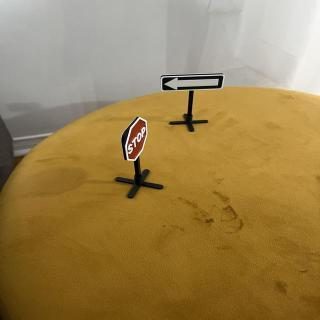sign_oneway_left: (161, 73, 227, 94)
sign_stop: (125, 116, 150, 164)
